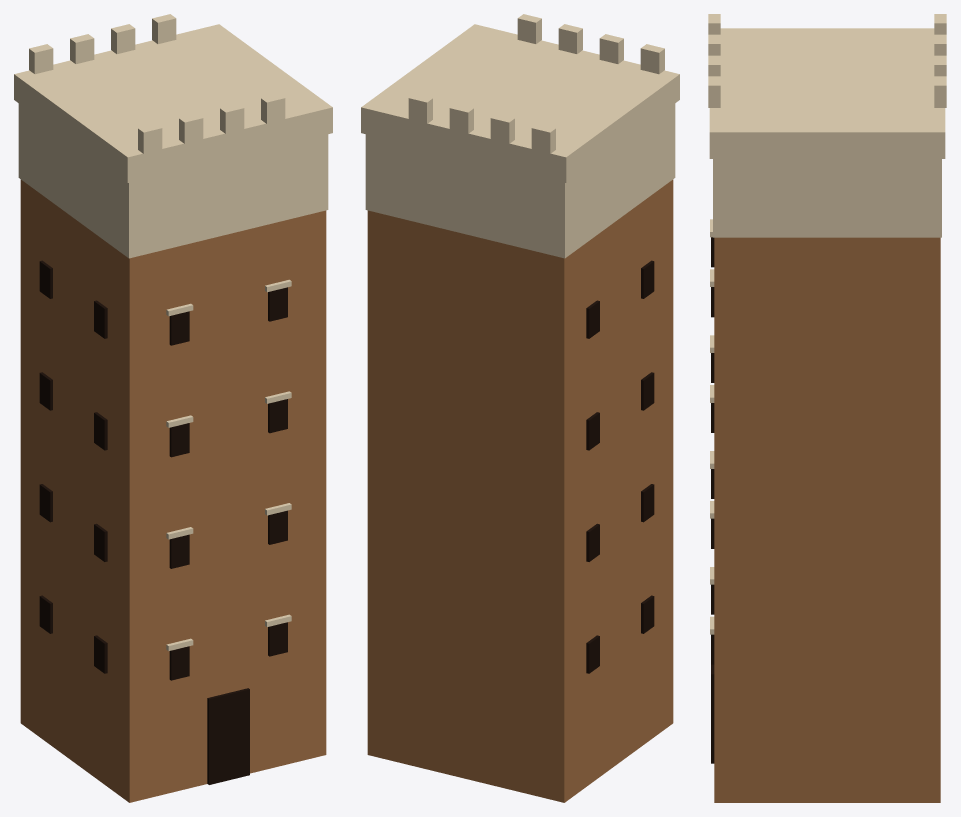
The model's file is tower_house_b.glb.
3 views of the same model, side by side, from view 1: azimuth 30°, elevation 25°; view 2: azimuth 150°, elevation 25°; view 3: azimuth 270°, elevation 25° (orthographic). The views are drawn at different scales.
Parts seen in each view (by area): view 1: TowerHouse; view 2: TowerHouse; view 3: TowerHouse.
Boxes of the visible parts, left/top/right/bottom form: TowerHouse: left=14, top=14, right=332, bottom=802; TowerHouse: left=361, top=14, right=679, bottom=802; TowerHouse: left=708, top=14, right=946, bottom=802.
Bounding box in the file's own units: 5 × 15.6 × 4.85.
